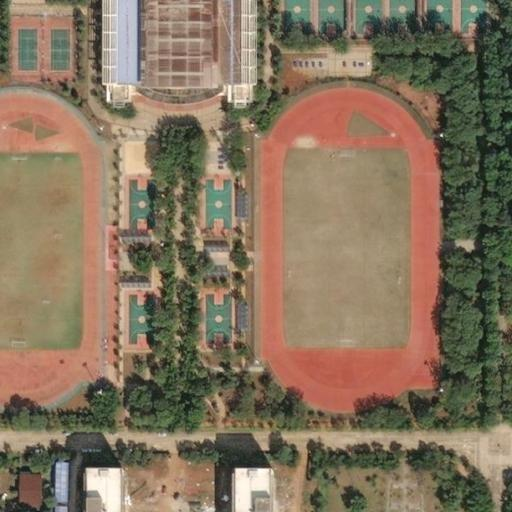building: (69, 453, 114, 512), (216, 455, 260, 512), (13, 474, 37, 509), (62, 431, 102, 450), (49, 463, 64, 502), (499, 138, 512, 162), (500, 72, 512, 95)
